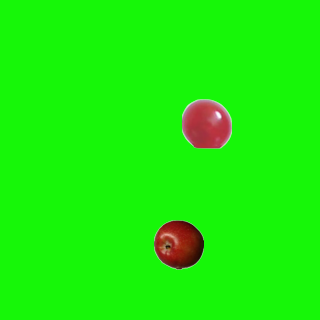Apple Braeburn: (153, 219, 203, 269)
Redcurrant: (181, 98, 231, 148)
